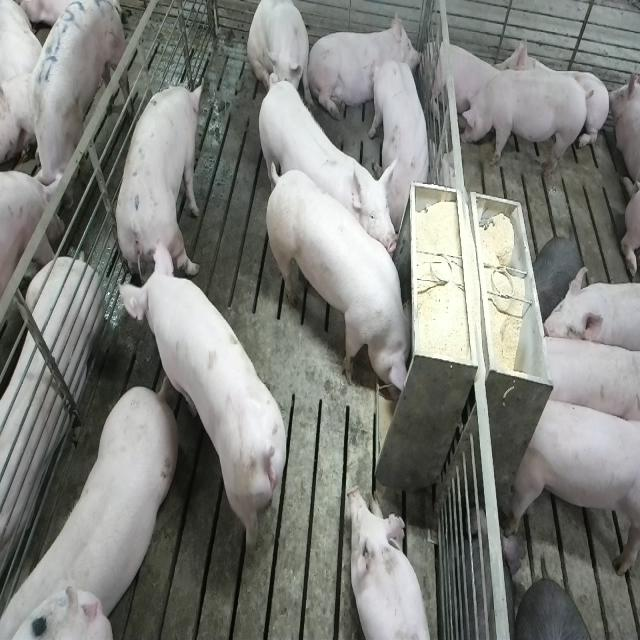Feeding: (269, 167, 421, 404)
Sitting: (247, 0, 312, 108)
Standing: (123, 245, 292, 561), (6, 376, 182, 634), (254, 76, 396, 260), (506, 391, 639, 584), (24, 0, 125, 208), (115, 81, 205, 296), (456, 66, 587, 178), (534, 331, 637, 429), (368, 59, 428, 217), (541, 269, 640, 356)
Sternal_lying: (498, 29, 608, 152), (348, 487, 433, 640), (313, 11, 421, 124), (426, 35, 499, 118), (608, 57, 640, 206)
